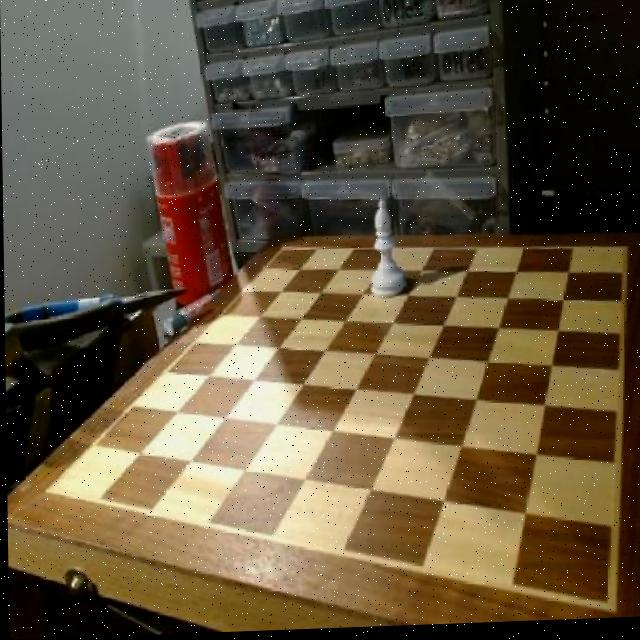black-rook: (366, 197, 405, 302)
